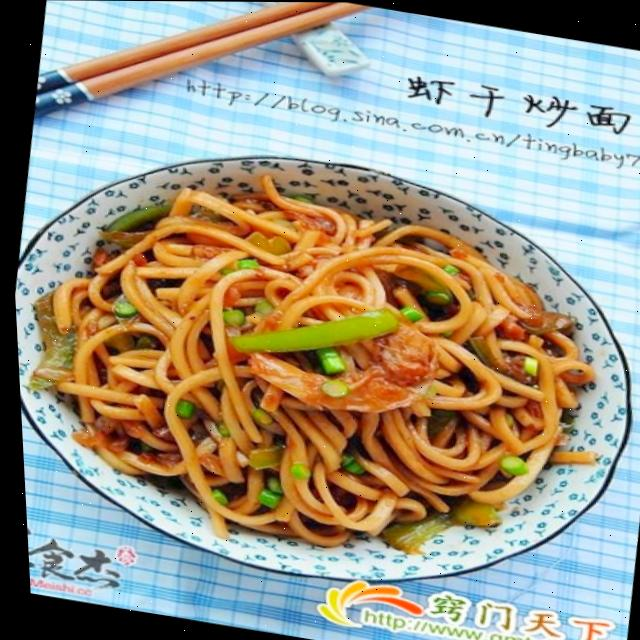面条主食: (5, 134, 624, 586)
